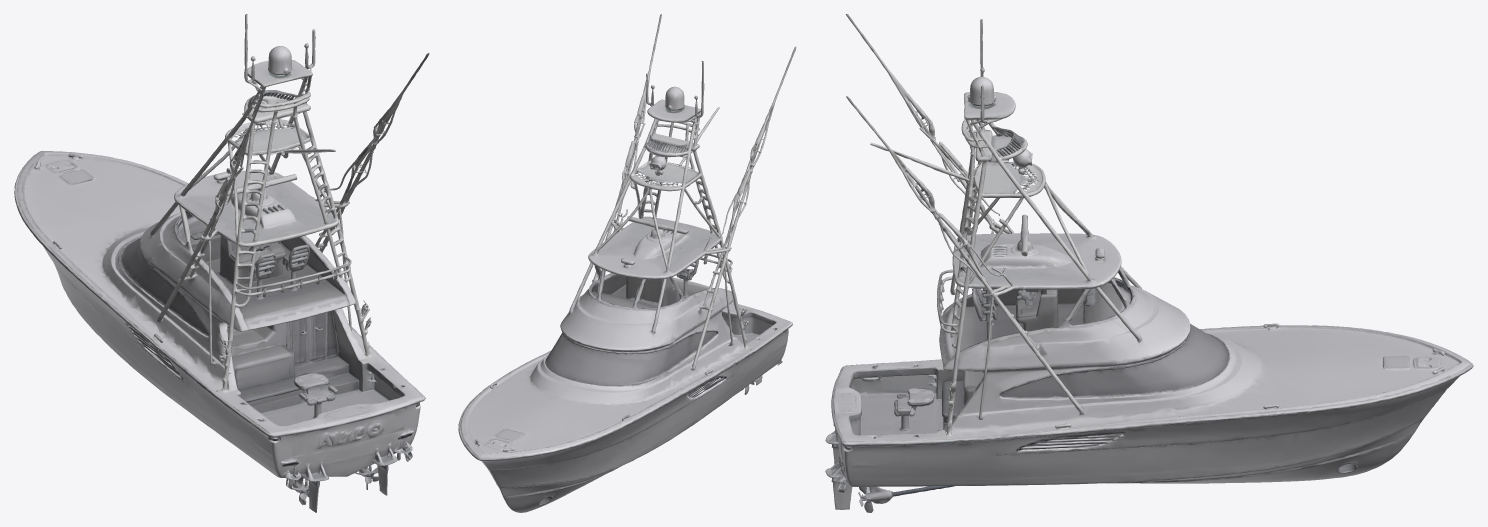
Rendered from boat-viking.glb.
3 renders of one model, left to right at view 1: azimuth 30°, elevation 25°; view 2: azimuth 150°, elevation 25°; view 3: azimuth 270°, elevation 25°, orthographic. The views are drawn at different scales.
Parts seen in each view (by area): view 1: tripo_node_d85ad7cd-e4e3-4206-b2a1-ce68cffed0d1; view 2: tripo_node_d85ad7cd-e4e3-4206-b2a1-ce68cffed0d1; view 3: tripo_node_d85ad7cd-e4e3-4206-b2a1-ce68cffed0d1.
Boxes of the visible parts, bbox=[...] form: tripo_node_d85ad7cd-e4e3-4206-b2a1-ce68cffed0d1: bbox=[14, 14, 429, 512]; tripo_node_d85ad7cd-e4e3-4206-b2a1-ce68cffed0d1: bbox=[458, 14, 796, 512]; tripo_node_d85ad7cd-e4e3-4206-b2a1-ce68cffed0d1: bbox=[825, 14, 1473, 512].
Size of the model in its own units: 0.327 by 0.7713 by 0.983.
1 material, 1 textured.
